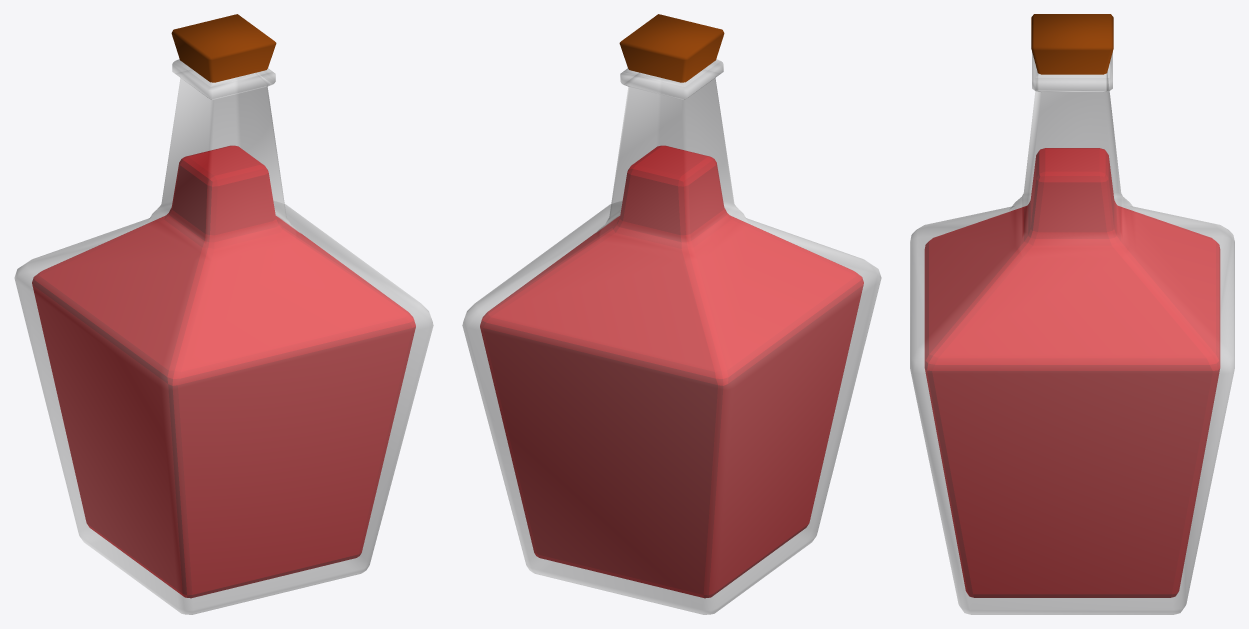
Rendered from Bottle.fbx.
3 renders of one model, left to right at view 1: azimuth 30°, elevation 25°; view 2: azimuth 150°, elevation 25°; view 3: azimuth 270°, elevation 25°, orthographic. The views are drawn at different scales.
Parts seen in each view (by area): view 1: Bottle; view 2: Bottle; view 3: Bottle.
Part boxes in pixels (box(x1,y1,x2,y2)): Bottle: box(14, 14, 433, 614); Bottle: box(462, 14, 881, 614); Bottle: box(910, 14, 1234, 614).
Size of the model in its own units: 20.19 by 37.16 by 20.19.
